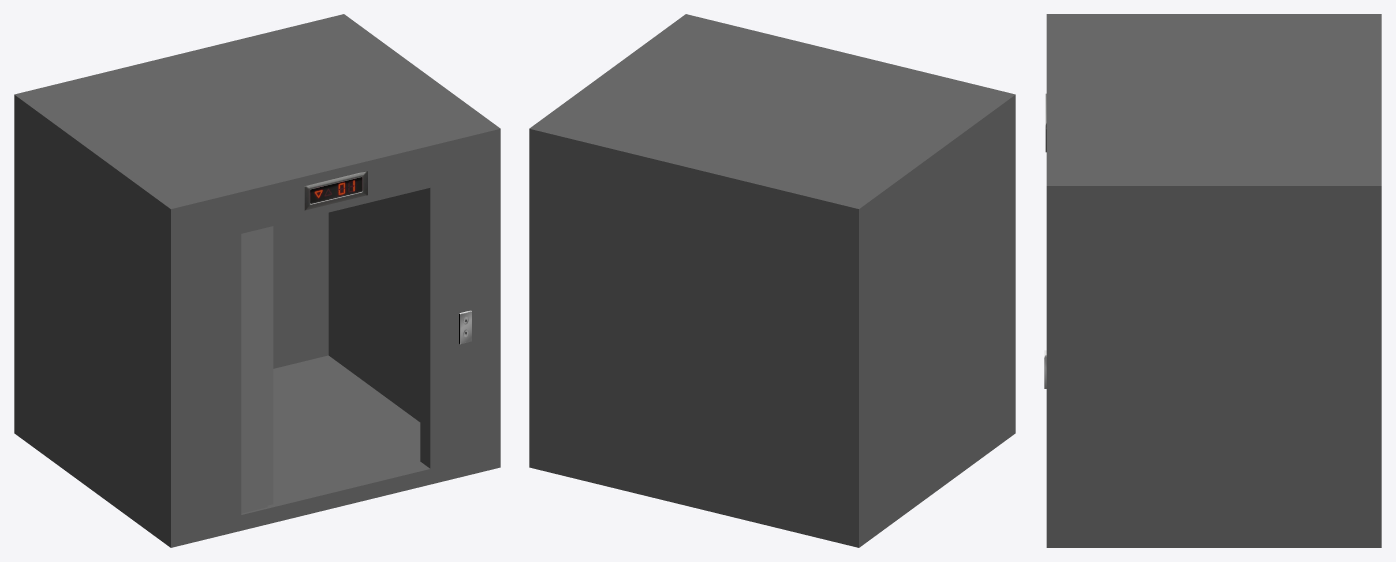
File: ElevatorOpenedDoor.fbx
3 renders of one model, left to right at view 1: azimuth 30°, elevation 25°; view 2: azimuth 150°, elevation 25°; view 3: azimuth 270°, elevation 25°, orthographic. The views are drawn at different scales.
Parts seen in each view (by area): view 1: DoorOpened; view 2: DoorOpened; view 3: DoorOpened.
Boxes of the visible parts, x1,y1,x2,y2 form: DoorOpened: [14, 14, 500, 547]; DoorOpened: [529, 14, 1015, 547]; DoorOpened: [1044, 14, 1381, 547].
Size of the model in its own units: 690 by 677 by 572.
5 materials, 2 textured.
